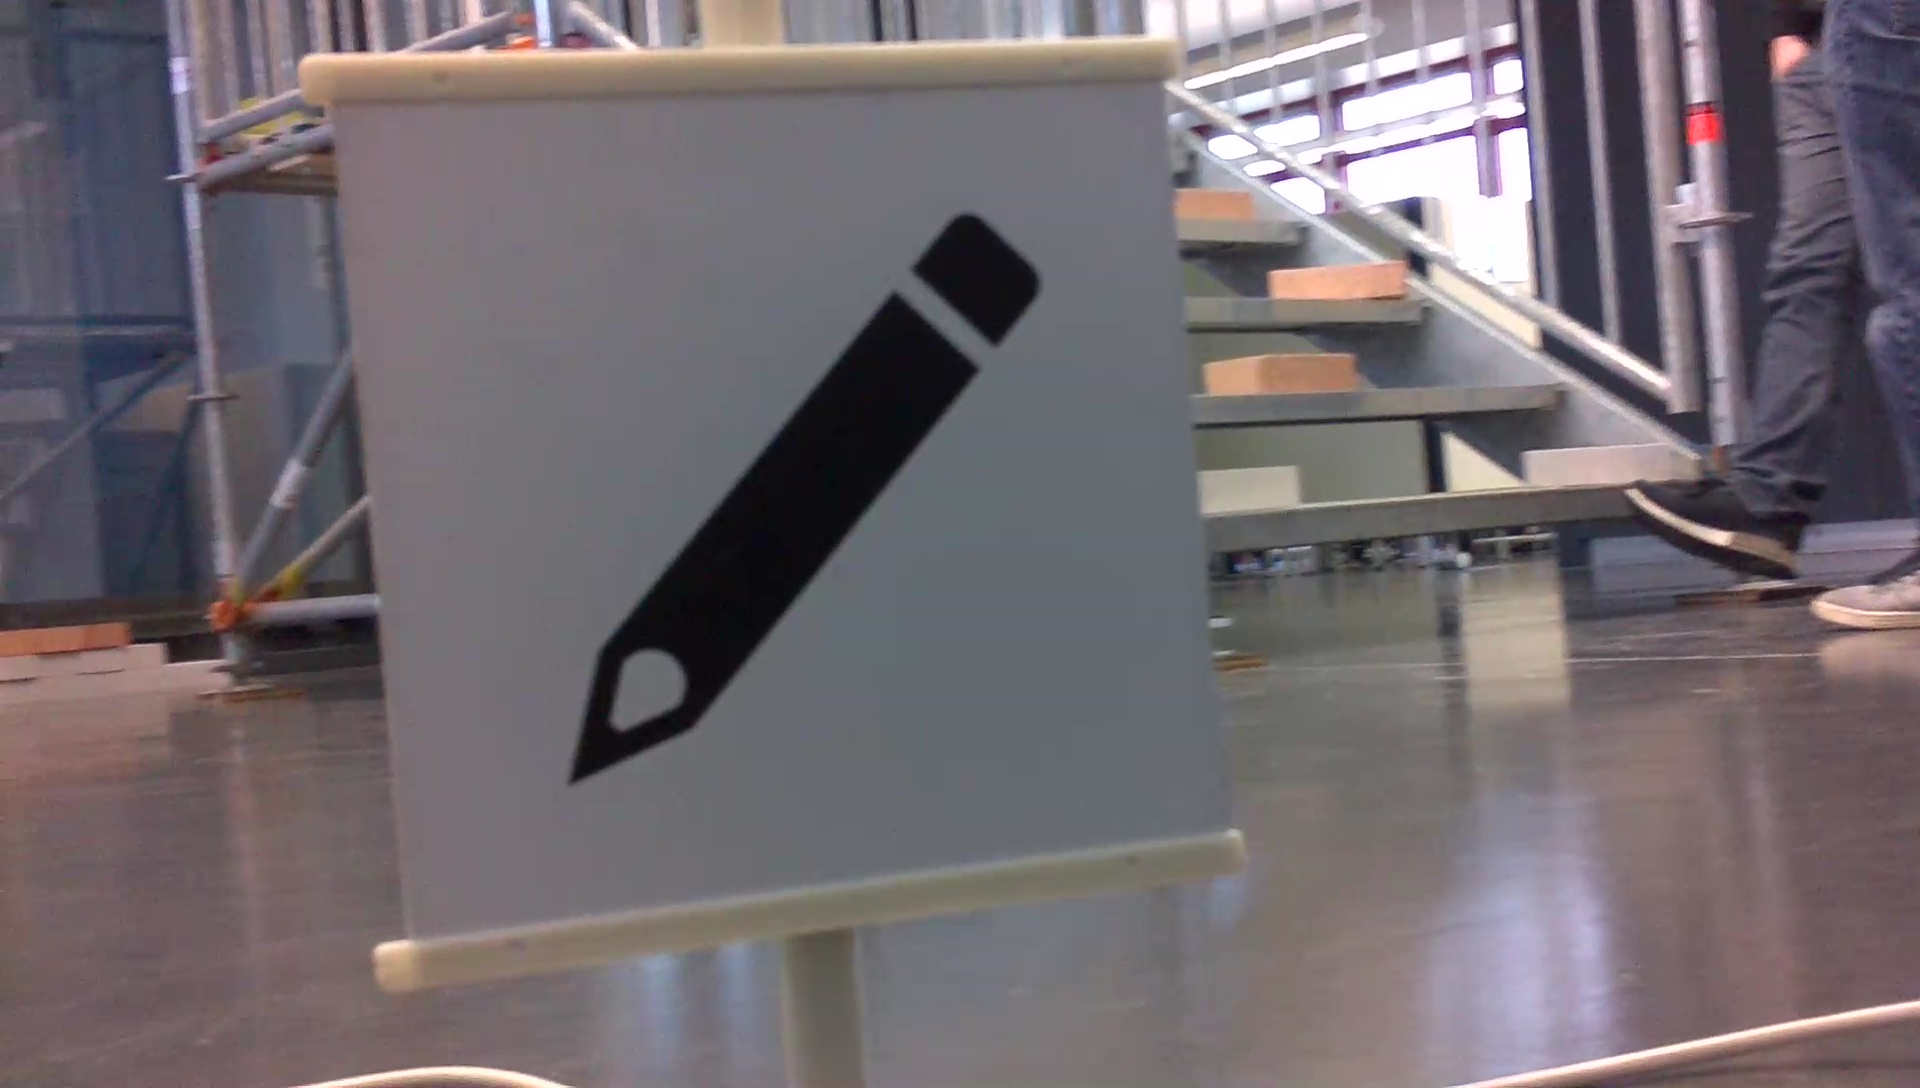brick: (1208, 353, 1352, 390), (1524, 444, 1665, 480), (1273, 262, 1403, 295), (1203, 469, 1295, 510), (1178, 187, 1253, 218)
edge: (1191, 382, 1576, 421), (1183, 298, 1437, 320), (1174, 218, 1315, 243)
pencil: (535, 194, 1062, 803)
